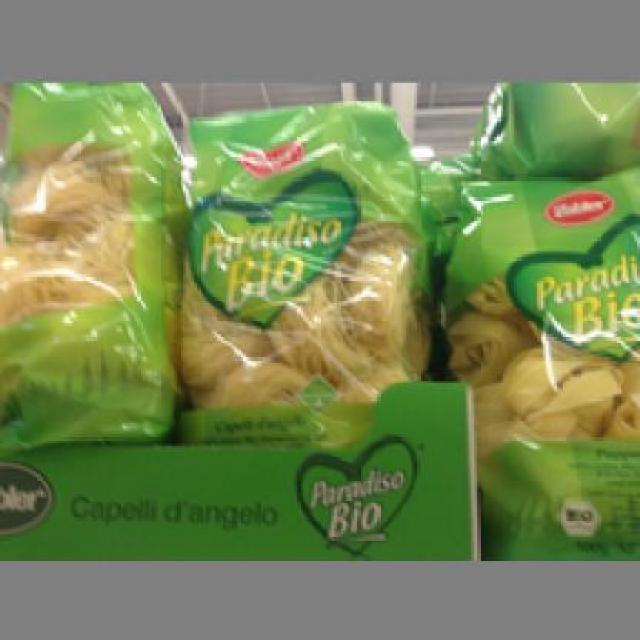Pasta: (174, 100, 434, 437), (440, 162, 637, 555), (0, 77, 177, 443)
